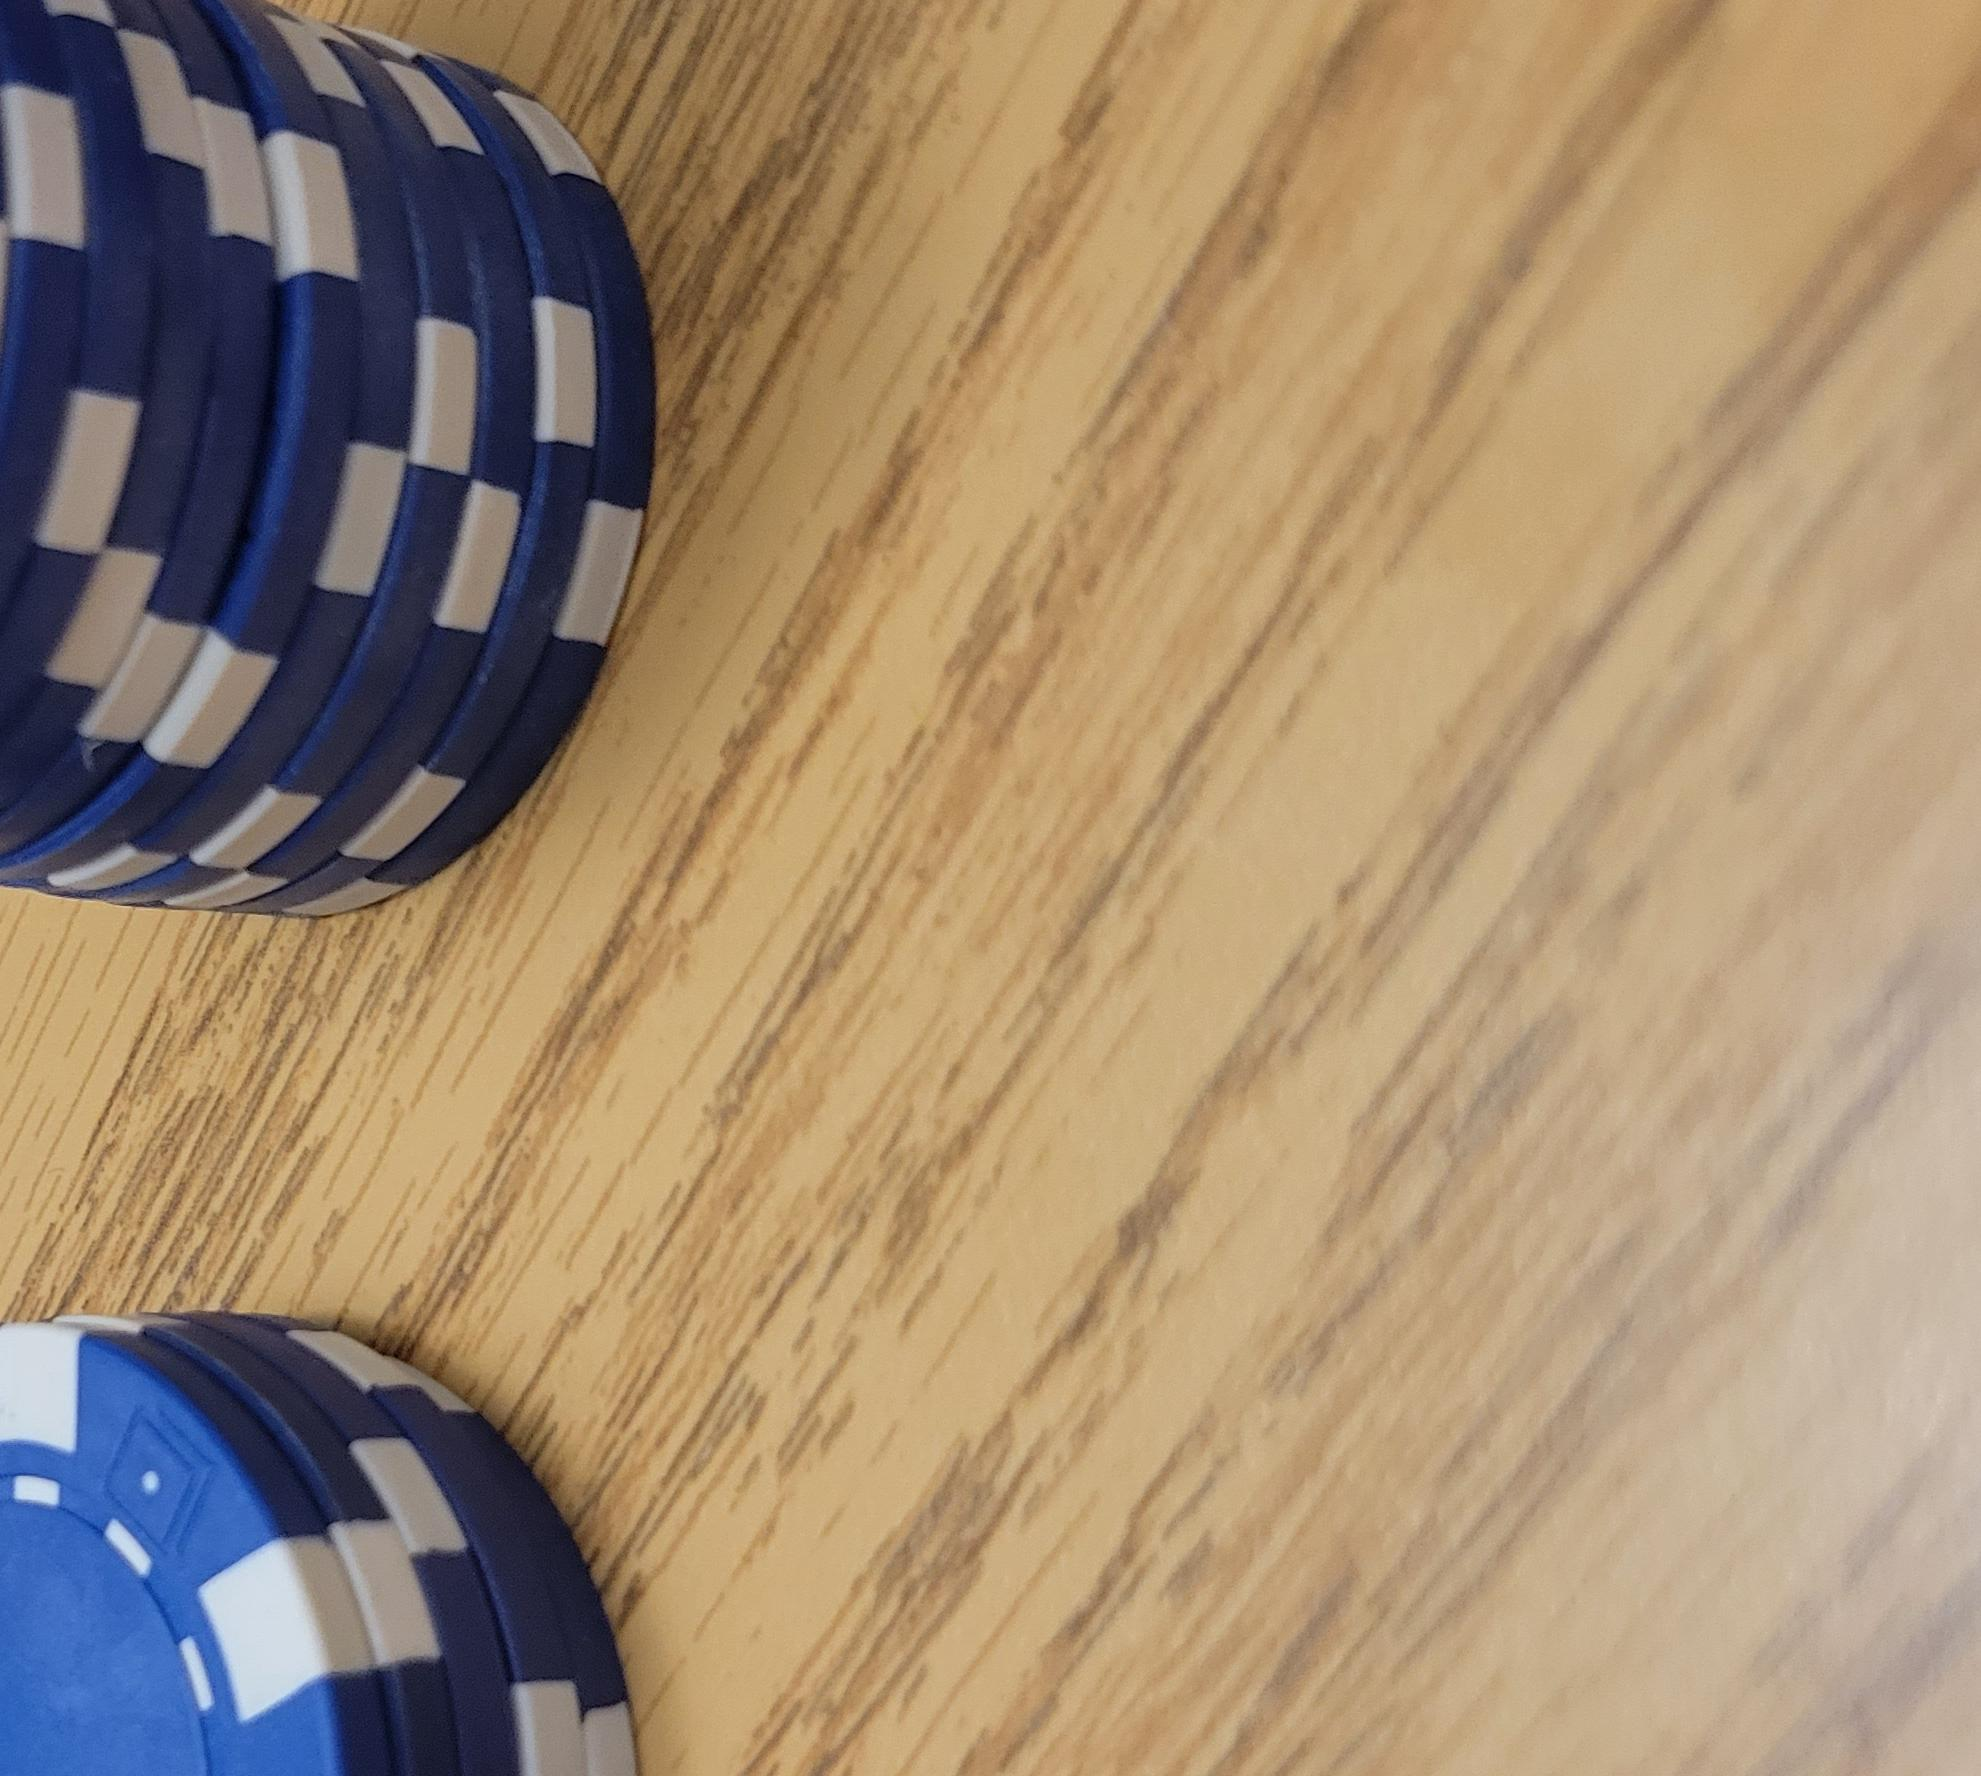Chip: (2, 134, 987, 1776)
